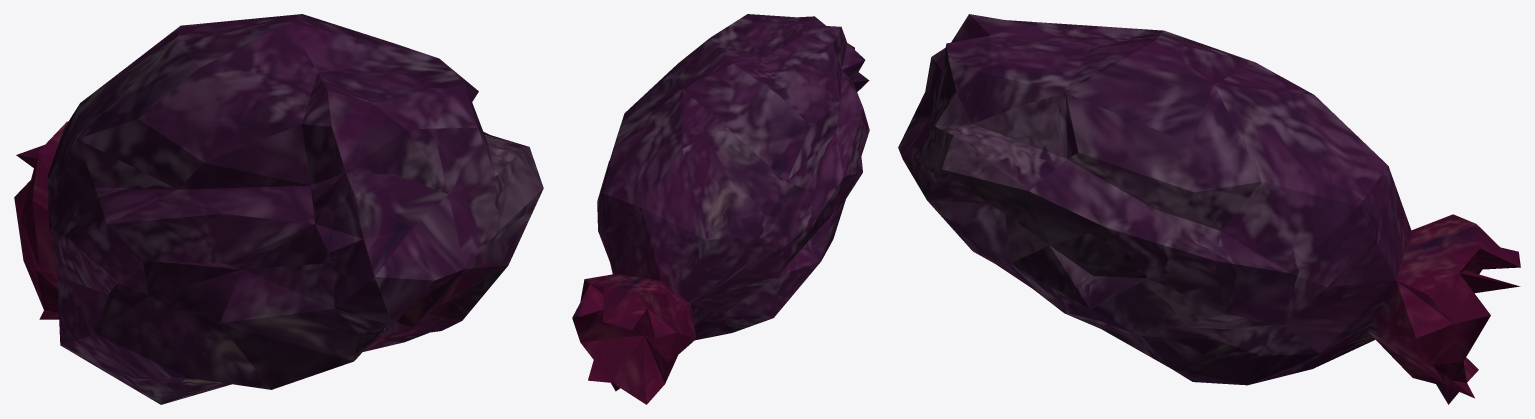
3 renders of one model, left to right at view 1: azimuth 30°, elevation 25°; view 2: azimuth 150°, elevation 25°; view 3: azimuth 270°, elevation 25°, orthographic. The views are drawn at different scales.
Visible parts, largest first — view 1: ai_model; view 2: ai_model; view 3: ai_model.
Boxes of the visible parts, left/top/right/bottom form: ai_model: left=14, top=14, right=543, bottom=404; ai_model: left=572, top=14, right=869, bottom=404; ai_model: left=898, top=14, right=1520, bottom=404.
Size of the model in its own units: 0.5382 by 0.6099 by 0.9669.
1 material, 1 textured.
